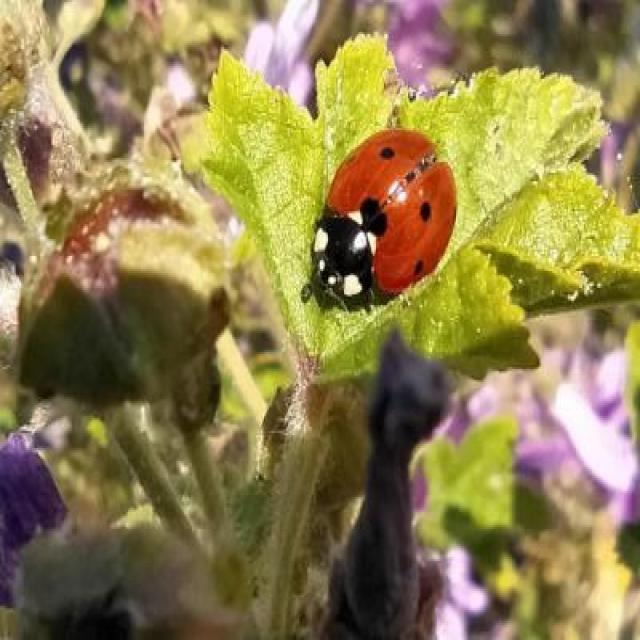body: (316, 129, 457, 306)
insect: (303, 126, 459, 308)
wings: (327, 130, 455, 296)
